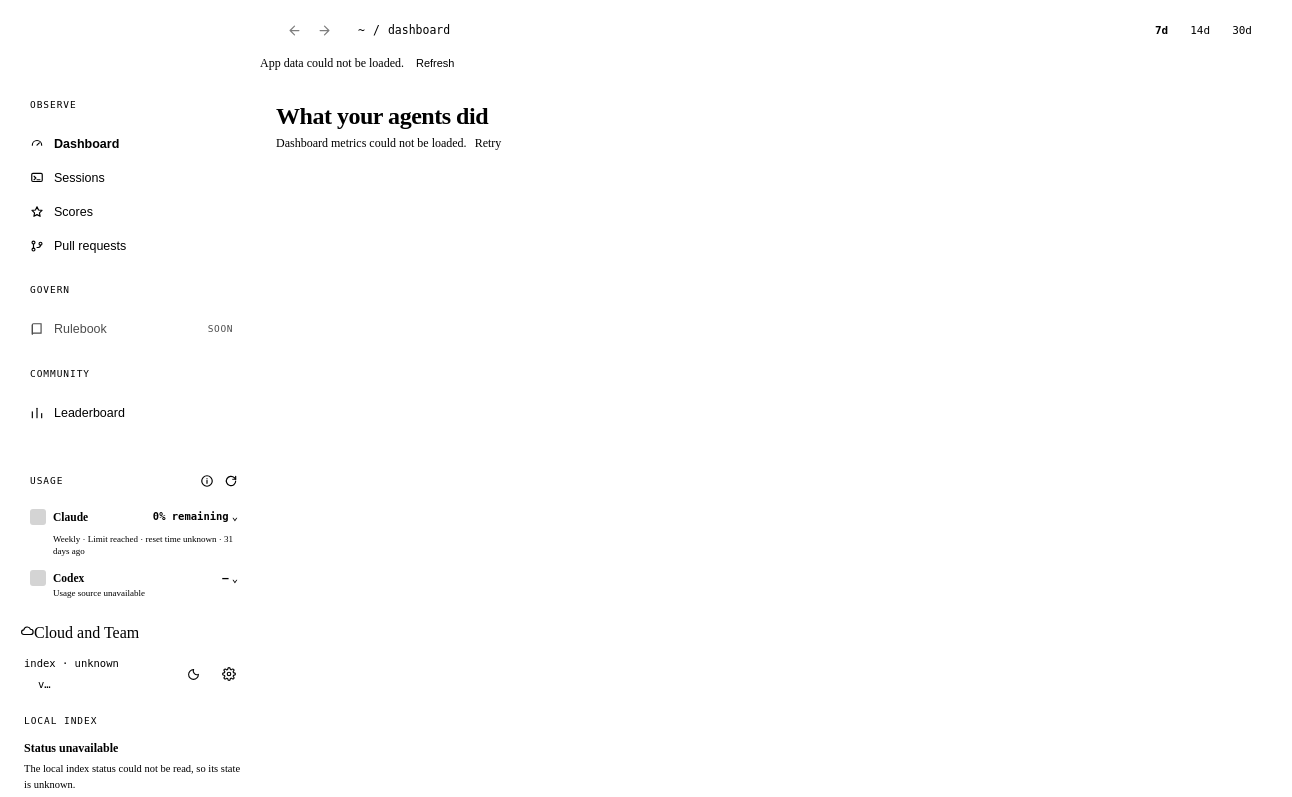
Test: hides the previous Claude percentage when an explicit refresh fails
Expected: the heading named "Claude account usage: 0% remaining · Weekly · limit reached" is shown, [30, 509, 238, 558]
Click the button named "Refresh usage" at [231, 481], box [219, 469, 243, 493]
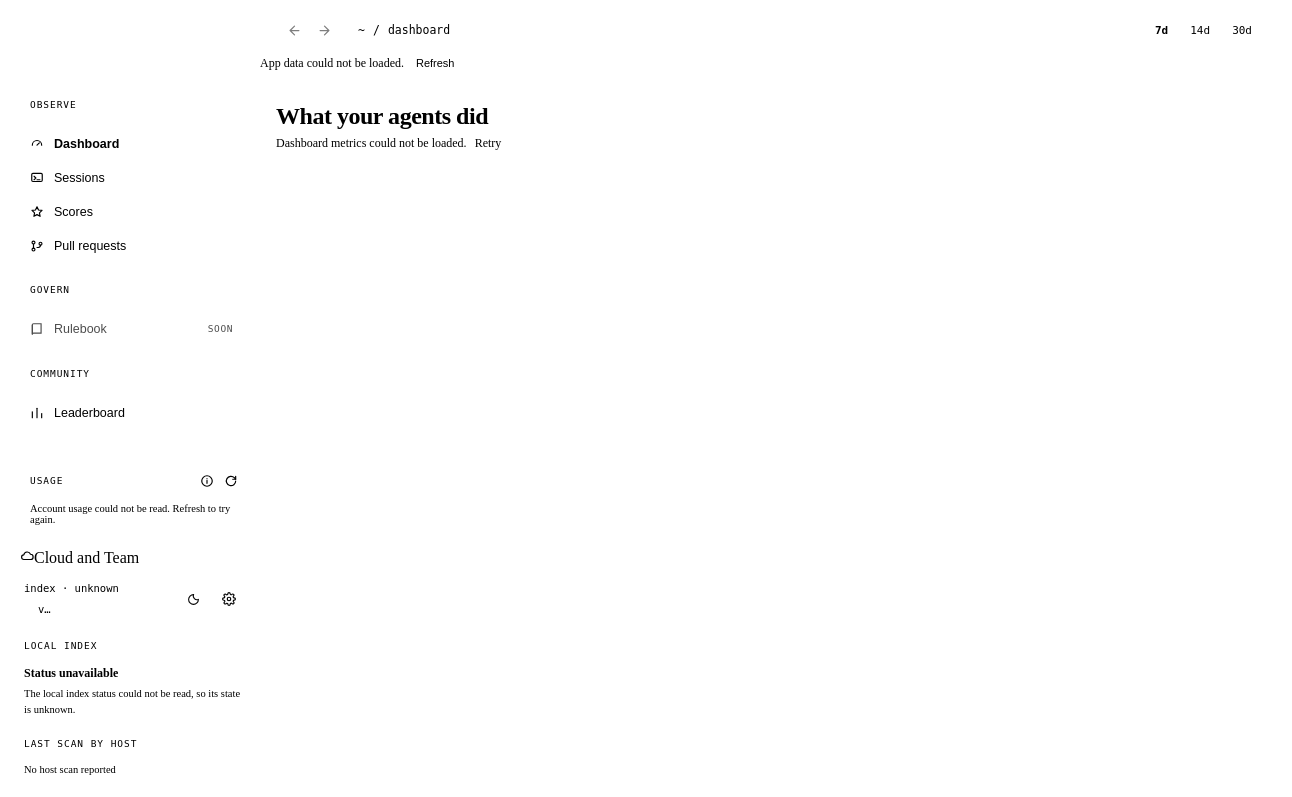
Now the text "Account usage could not be read. Refresh to try again." is shown, box [30, 503, 238, 525]
Now the heading "0% remaining" is gone
